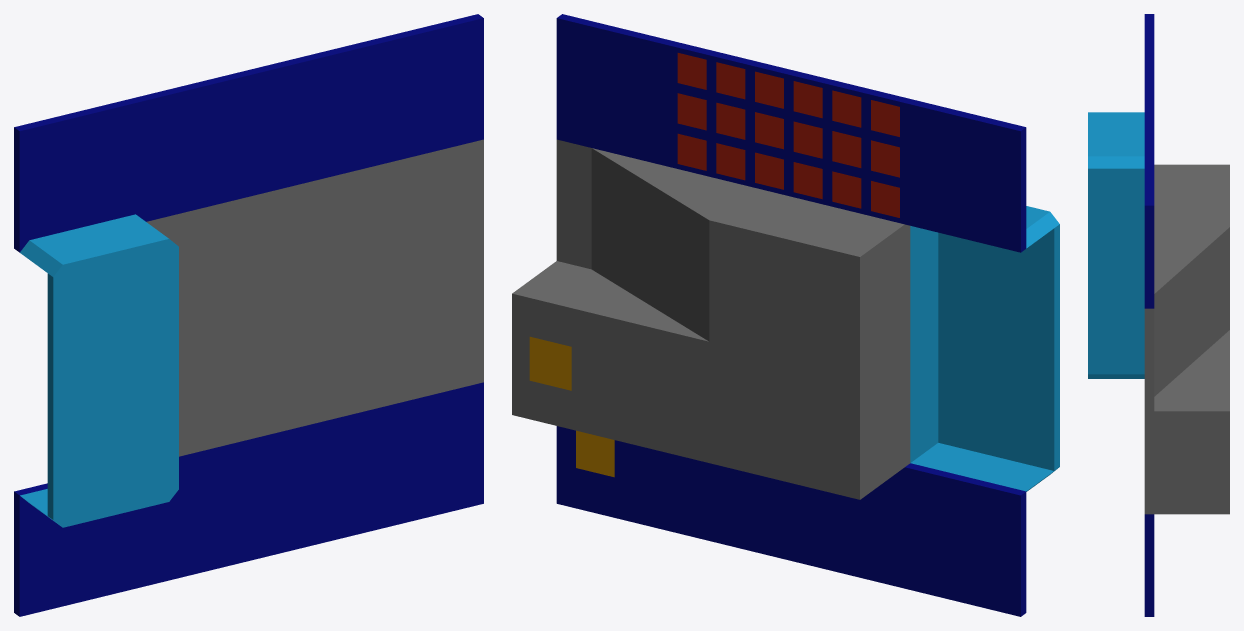
Rendered from Level001V4JoinedFBX.fbx.
3 renders of one model, left to right at view 1: azimuth 30°, elevation 25°; view 2: azimuth 150°, elevation 25°; view 3: azimuth 270°, elevation 25°, orthographic. The views are drawn at different scales.
Parts seen in each view (by area): view 1: Platform 6x6.006; view 2: Platform 6x6.006; view 3: Platform 6x6.006.
Part boxes in pixels (bbox=[...]): Platform 6x6.006: bbox=[14, 14, 483, 616]; Platform 6x6.006: bbox=[512, 14, 1059, 616]; Platform 6x6.006: bbox=[1088, 14, 1229, 616].
Size of the model in its own units: 24 by 24 by 7.5.
